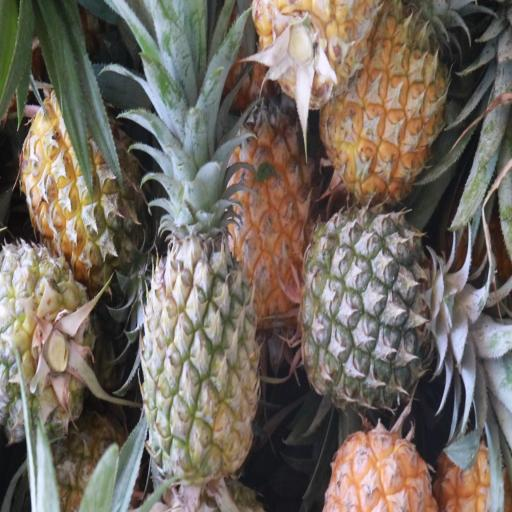------------------------------: (20, 71, 137, 270), (0, 236, 93, 440)
Pineapple - v8 v1: (320, 9, 448, 193), (227, 101, 314, 324)
